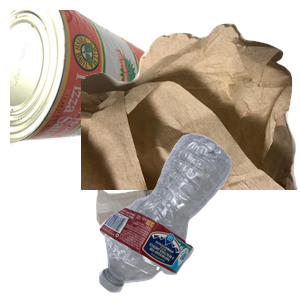glass: (94, 184, 253, 300)
metal: (10, 10, 159, 152)
plastic: (96, 131, 300, 300)
trash: (81, 21, 300, 201)
